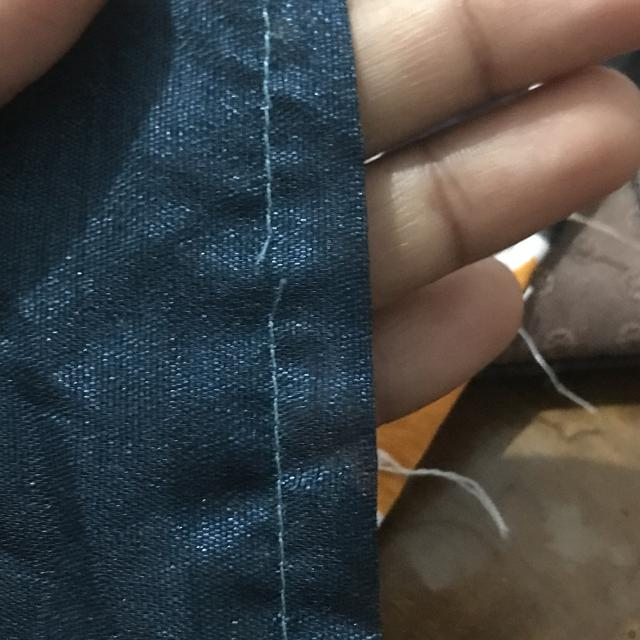broken: (236, 223, 298, 337)
